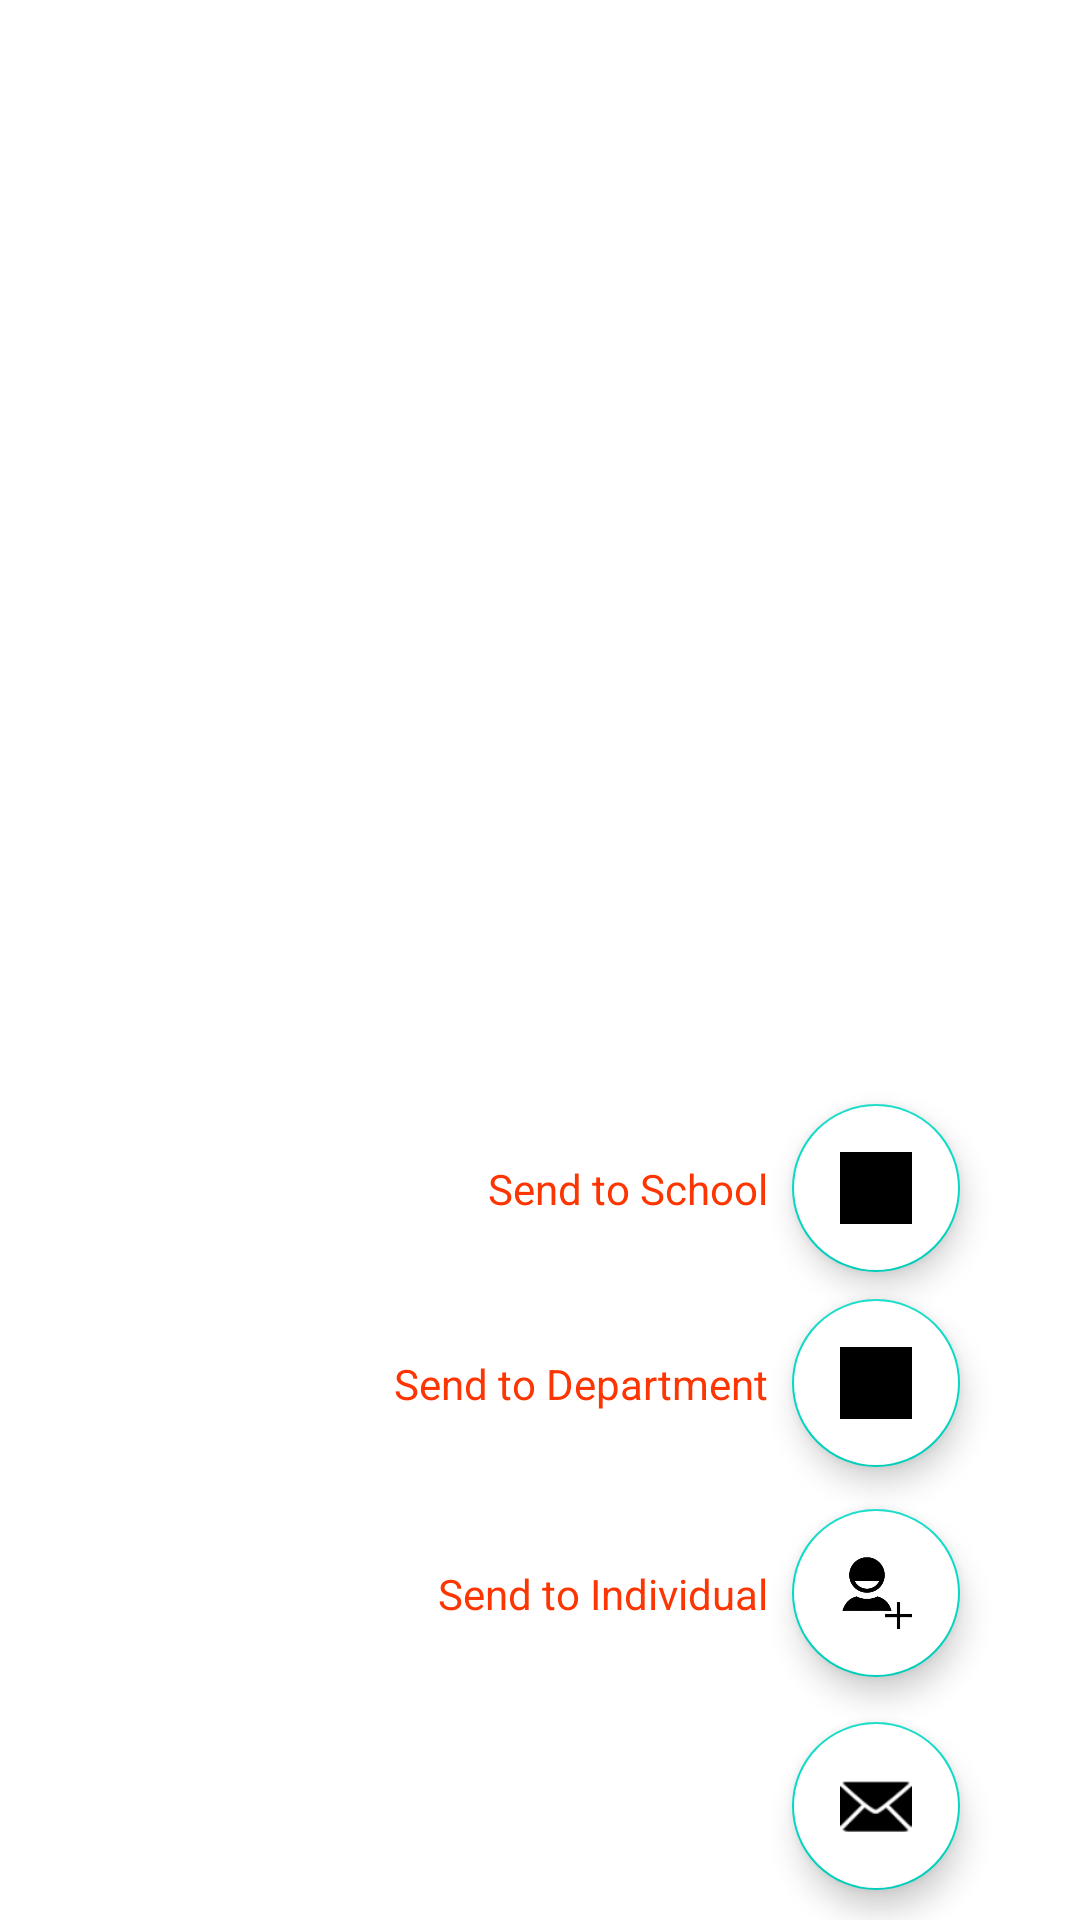

Icons on this 1080 × 1920 Android screen, each with its box as BBox(x1, y1, x2, y2):
email: BBox(840, 1781, 912, 1832)
